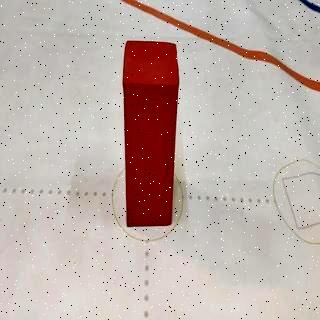redbox: (124, 40, 174, 226)
